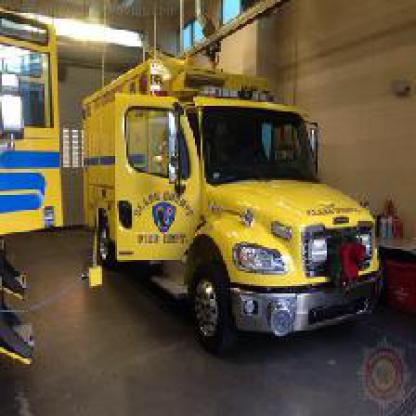emergency: (61, 41, 396, 347)
